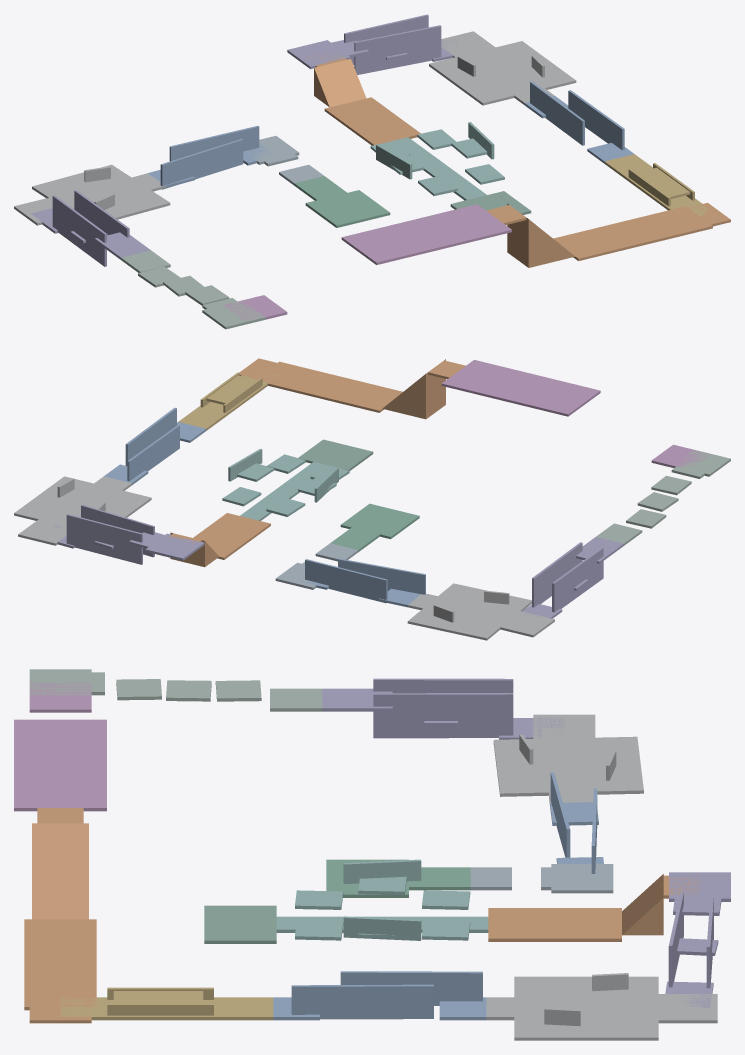
The model's file is Level_Freestyle_01_GN_V03.glb.
The picture shows the model from 3 angles, top to bottom: view 1: azimuth 30°, elevation 25°; view 2: azimuth 150°, elevation 25°; view 3: azimuth 270°, elevation 25°; orthographic projection. The views are drawn at different scales.
Visible parts, largest first — view 1: FLOW_07_STEEP_DESCENT-col, FLOW_10_ARENA_POCKET-col, FLOW_06_GRAPPLE_CATCH-col, FLOW_11_WALL_JUMP_SHAFT-col, FLOW_13_MULTI_ROUTE-col, FLOW_03_ARENA_POCKET-col, FLOW_12_STEEP_DESCENT-col, FLOW_04_WALL_JUMP_SHAFT-col, FLOW_02_WALLRUN-col, FLOW_09_WALLRUN-col, FLOW_05_MIXED_PLATFORMS-col, FLOW_00_ENTRY-col (+3 smaller); view 2: FLOW_07_STEEP_DESCENT-col, FLOW_06_GRAPPLE_CATCH-col, FLOW_03_ARENA_POCKET-col, FLOW_11_WALL_JUMP_SHAFT-col, FLOW_10_ARENA_POCKET-col, FLOW_13_MULTI_ROUTE-col, FLOW_04_WALL_JUMP_SHAFT-col, FLOW_02_WALLRUN-col, FLOW_05_MIXED_PLATFORMS-col, FLOW_09_WALLRUN-col, FLOW_12_STEEP_DESCENT-col, FLOW_08_SLIDE_CHUTE-col (+3 smaller); view 3: FLOW_07_STEEP_DESCENT-col, FLOW_10_ARENA_POCKET-col, FLOW_04_WALL_JUMP_SHAFT-col, FLOW_06_GRAPPLE_CATCH-col, FLOW_03_ARENA_POCKET-col, FLOW_09_WALLRUN-col, FLOW_13_MULTI_ROUTE-col, FLOW_12_STEEP_DESCENT-col, FLOW_05_MIXED_PLATFORMS-col, FLOW_08_SLIDE_CHUTE-col, FLOW_11_WALL_JUMP_SHAFT-col, FLOW_01_GAP_JUMP-col (+3 smaller).
Part boxes in pixels (x1,y1,x2,y2): FLOW_07_STEEP_DESCENT-col: (486,202,730,267); FLOW_10_ARENA_POCKET-col: (429,31,576,105); FLOW_06_GRAPPLE_CATCH-col: (223,204,511,321); FLOW_11_WALL_JUMP_SHAFT-col: (287,14,469,74); FLOW_13_MULTI_ROUTE-col: (370,122,504,200); FLOW_03_ARENA_POCKET-col: (14,164,170,225); FLOW_12_STEEP_DESCENT-col: (305,51,420,145); FLOW_04_WALL_JUMP_SHAFT-col: (31,190,150,266); FLOW_02_WALLRUN-col: (147,125,273,189); FLOW_09_WALLRUN-col: (525,81,634,163); FLOW_05_MIXED_PLATFORMS-col: (121,250,265,329); FLOW_00_ENTRY-col: (294,176,390,227); FLOW_07_STEEP_DESCENT-col: (239,358,465,419); FLOW_06_GRAPPLE_CATCH-col: (441,360,710,467); FLOW_03_ARENA_POCKET-col: (407,583,554,640); FLOW_11_WALL_JUMP_SHAFT-col: (54,504,204,564); FLOW_10_ARENA_POCKET-col: (14,476,151,545); FLOW_13_MULTI_ROUTE-col: (222,448,349,520); FLOW_04_WALL_JUMP_SHAFT-col: (522,537,623,618); FLOW_02_WALLRUN-col: (300,558,425,607); FLOW_05_MIXED_PLATFORMS-col: (596,450,730,545); FLOW_09_WALLRUN-col: (104,407,206,484); FLOW_12_STEEP_DESCENT-col: (169,513,270,567); FLOW_08_SLIDE_CHUTE-col: (178,369,279,430); FLOW_07_STEEP_DESCENT-col: (24,808,96,1023); FLOW_10_ARENA_POCKET-col: (486,973,717,1040); FLOW_04_WALL_JUMP_SHAFT-col: (322,678,564,739); FLOW_06_GRAPPLE_CATCH-col: (14,682,106,811); FLOW_03_ARENA_POCKET-col: (493,714,643,803); FLOW_09_WALLRUN-col: (273,971,486,1020); FLOW_13_MULTI_ROUTE-col: (276,859,488,940); FLOW_12_STEEP_DESCENT-col: (488,874,699,941); FLOW_05_MIXED_PLATFORMS-col: (29,669,322,711); FLOW_08_SLIDE_CHUTE-col: (60,987,273,1020); FLOW_11_WALL_JUMP_SHAFT-col: (665,872,730,1007); FLOW_01_GAP_JUMP-col: (470,864,613,893).
Size of the model in its own units: 159 by 20.18 by 139.
